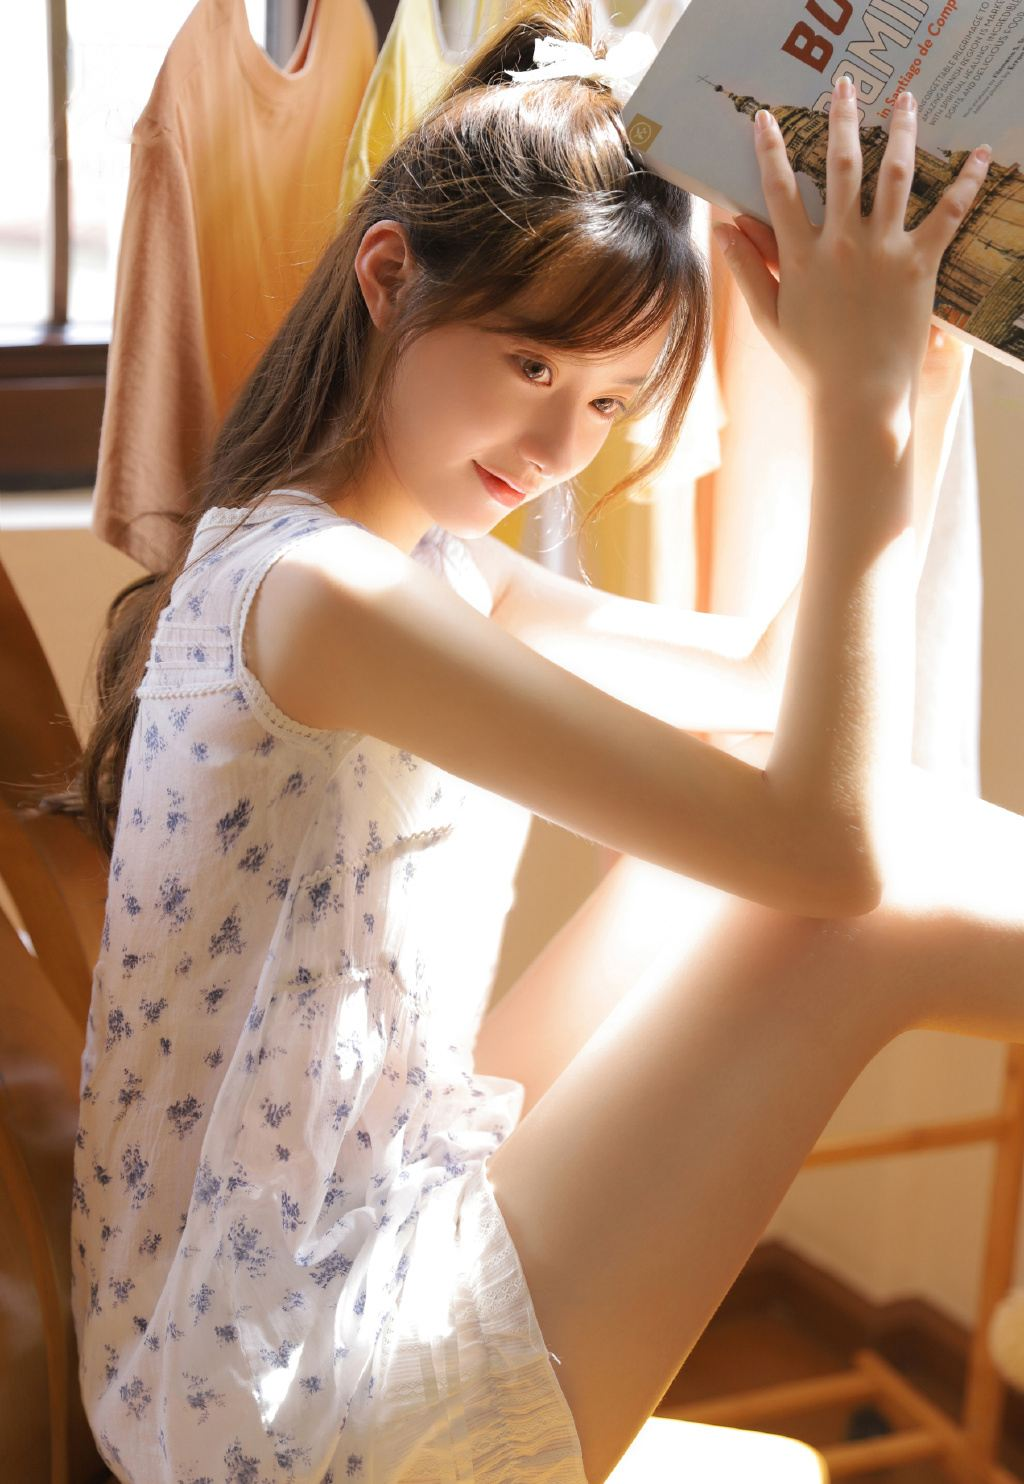person: (140, 118, 943, 1270)
